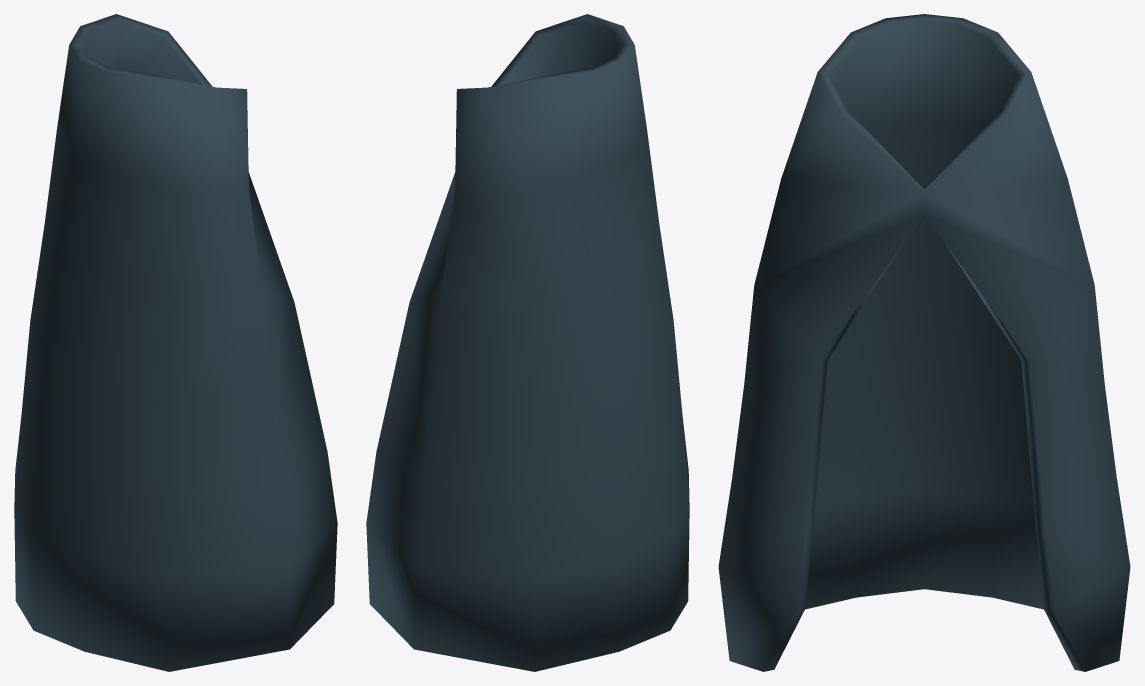
Rendered from MainCharCloak.fbx.
3 views of the same model, side by side, from view 1: azimuth 30°, elevation 25°; view 2: azimuth 150°, elevation 25°; view 3: azimuth 270°, elevation 25° (orthographic). The views are drawn at different scales.
Parts seen in each view (by area): view 1: Cloak; view 2: Cloak; view 3: Cloak.
Boxes of the visible parts, box(x1,y1,x2,y2) form: Cloak: box(14, 14, 337, 671); Cloak: box(366, 14, 689, 671); Cloak: box(718, 14, 1130, 671).
Size of the model in its own units: 2.74 by 5.98 by 3.76.
